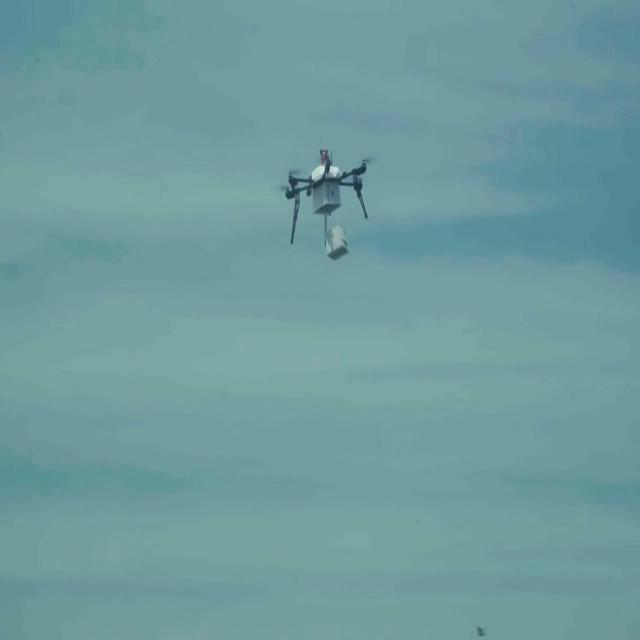UAV: (273, 150, 379, 262)
